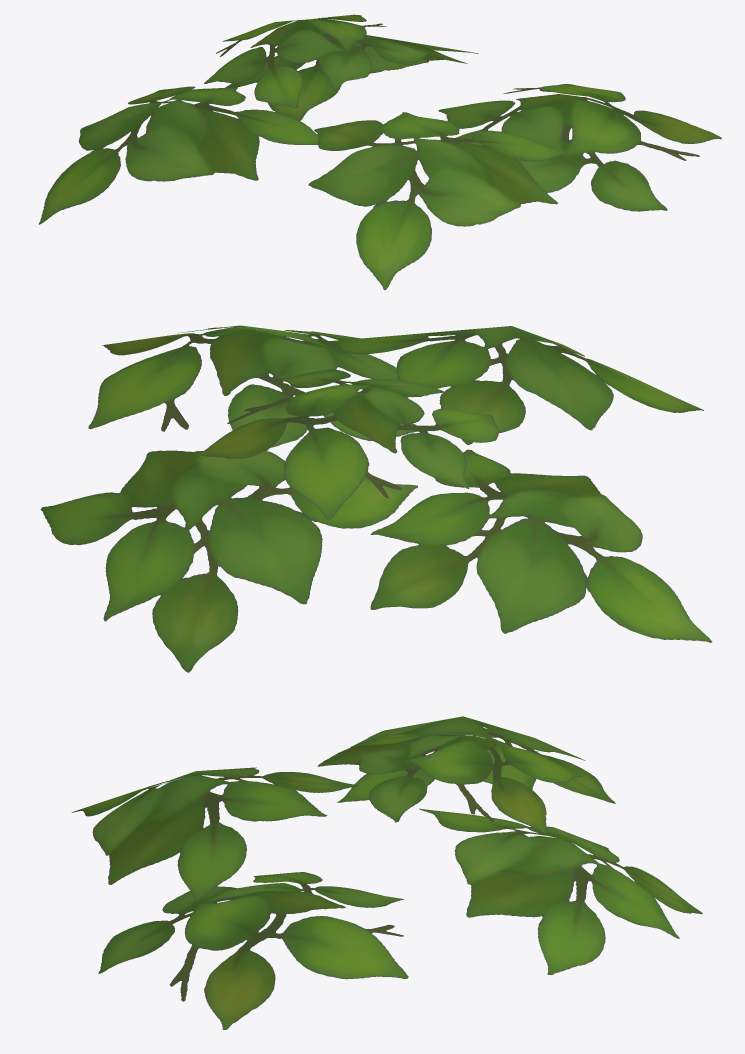
The model's file is Jungle_plant_06.fbx.
3 views of the same model, one above another, from view 1: azimuth 30°, elevation 25°; view 2: azimuth 150°, elevation 25°; view 3: azimuth 270°, elevation 25° (orthographic). The views are drawn at different scales.
Visible parts, largest first — view 1: Jungle_plant_06; view 2: Jungle_plant_06; view 3: Jungle_plant_06.
Part boxes in pixels (bbox=[...]): Jungle_plant_06: bbox=[38, 14, 721, 290]; Jungle_plant_06: bbox=[40, 325, 712, 672]; Jungle_plant_06: bbox=[71, 716, 702, 1029].
Bounding box in the file's own units: 112 × 27.72 × 104.
